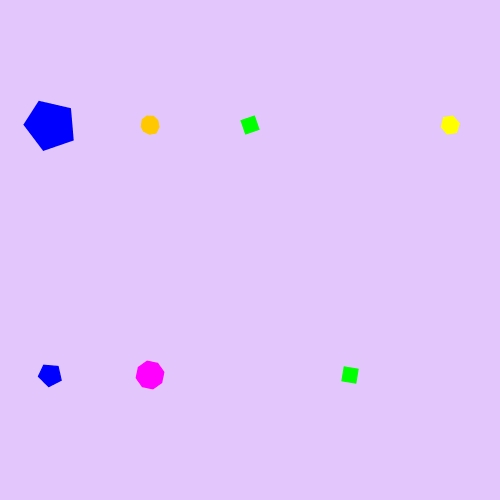hexagon: (435, 112, 465, 138)
nonagon: (136, 111, 165, 139)
octagon: (132, 357, 169, 394)
pentagon: (22, 97, 79, 154), (34, 359, 66, 391)
quadrilateral: (235, 110, 265, 140), (335, 360, 365, 390)
